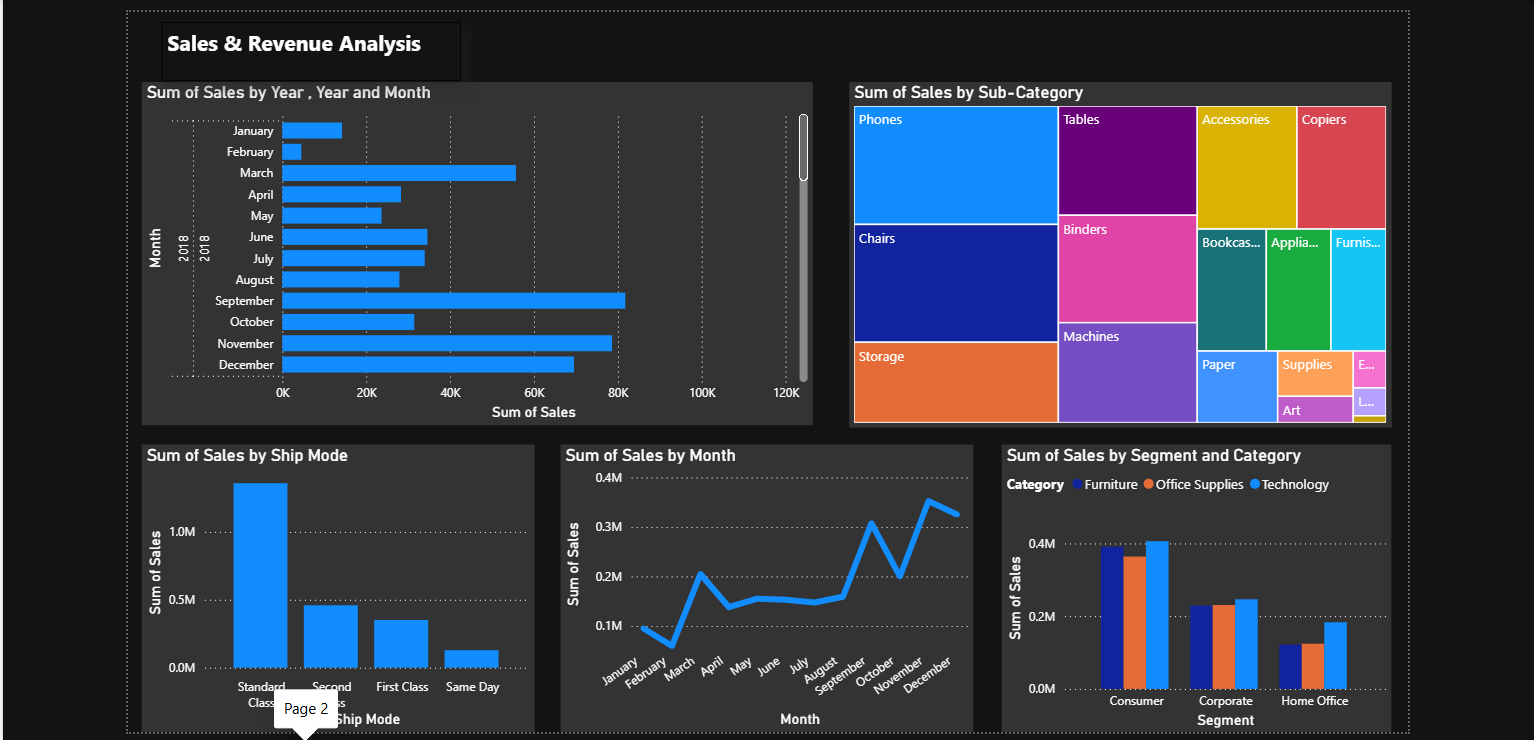

What the dashboard file says about the page in this screenshot:
{"tool":"powerbi","page":{"name":"Page 2","canvas":[1280,720],"ordinal":1},"visuals":[{"type":"clusteredBarChart","fields":{"Category":["E-Commerce.Year ","E-Commerce.Order Date.Variation.Date Hierarchy.Year","E-Commerce.Order Date.Variation.Date Hierarchy.Month"],"Y":["Sum(E-Commerce.Sales)"]},"box":[13.7,70,671,343.1],"z":0},{"type":"treemap","fields":{"Group":["E-Commerce.Sub-Category"],"Values":["Sum(E-Commerce.Sales)"]},"box":[721.8,70,542,345.8],"z":1000},{"type":"columnChart","fields":{"Category":["E-Commerce.Ship Mode"],"Y":["Sum(E-Commerce.Sales)"]},"box":[13.7,432.2,392.5,288.2],"z":2000},{"type":"clusteredColumnChart","fields":{"Category":["E-Commerce.Segment"],"Series":["E-Commerce.Category"],"Y":["Sum(E-Commerce.Sales)"]},"box":[874.1,432.2,389.7,288.2],"z":3000},{"type":"lineChart","fields":{"Category":["E-Commerce.Order Date.Variation.Date Hierarchy.Month"],"Y":["Sum(E-Commerce.Sales)"]},"box":[432.2,432.2,413,288.2],"z":4000},{"type":"textbox","box":[34.3,9.6,299.1,59],"z":5000}]}

Visuals, with their boxes on the page's 1280x720 design canvas (x1, y1, x2, y2). These are canvas units, not pixel positions in the 1535x740 screenshot, which may show the page scaled, cropped or inside an application window:
clusteredBarChart - E-Commerce.Year  x E-Commerce.Order Date.Variation.Date Hierarchy.Year: bbox(14, 70, 685, 413)
treemap - E-Commerce.Sub-Category x Sum(E-Commerce.Sales): bbox(722, 70, 1264, 416)
columnChart - E-Commerce.Ship Mode x Sum(E-Commerce.Sales): bbox(14, 432, 406, 720)
clusteredColumnChart - E-Commerce.Segment x E-Commerce.Category: bbox(874, 432, 1264, 720)
lineChart - E-Commerce.Order Date.Variation.Date Hierarchy.Month x Sum(E-Commerce.Sales): bbox(432, 432, 845, 720)
textbox: bbox(34, 10, 333, 69)
